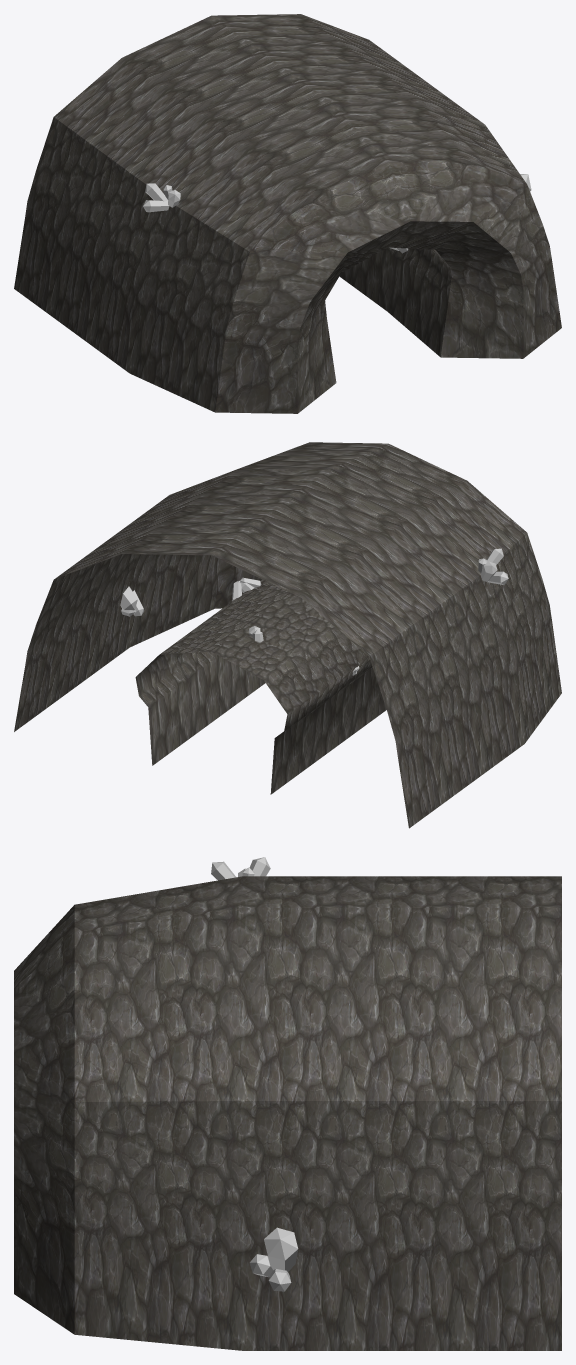
The model's file is Cave_End.FBX.
The picture shows the model from 3 angles, top to bottom: view 1: azimuth 30°, elevation 25°; view 2: azimuth 150°, elevation 25°; view 3: azimuth 270°, elevation 25°; orthographic projection. The views are drawn at different scales.
Parts seen in each view (by area): view 1: Object349; view 2: Object349; view 3: Object349.
Boxes of the visible parts, x1,y1,x2,y2 form: Object349: [14, 14, 561, 413]; Object349: [14, 442, 561, 828]; Object349: [14, 857, 561, 1350].
Bounding box in the file's own units: 1923 × 1001 × 1605.
